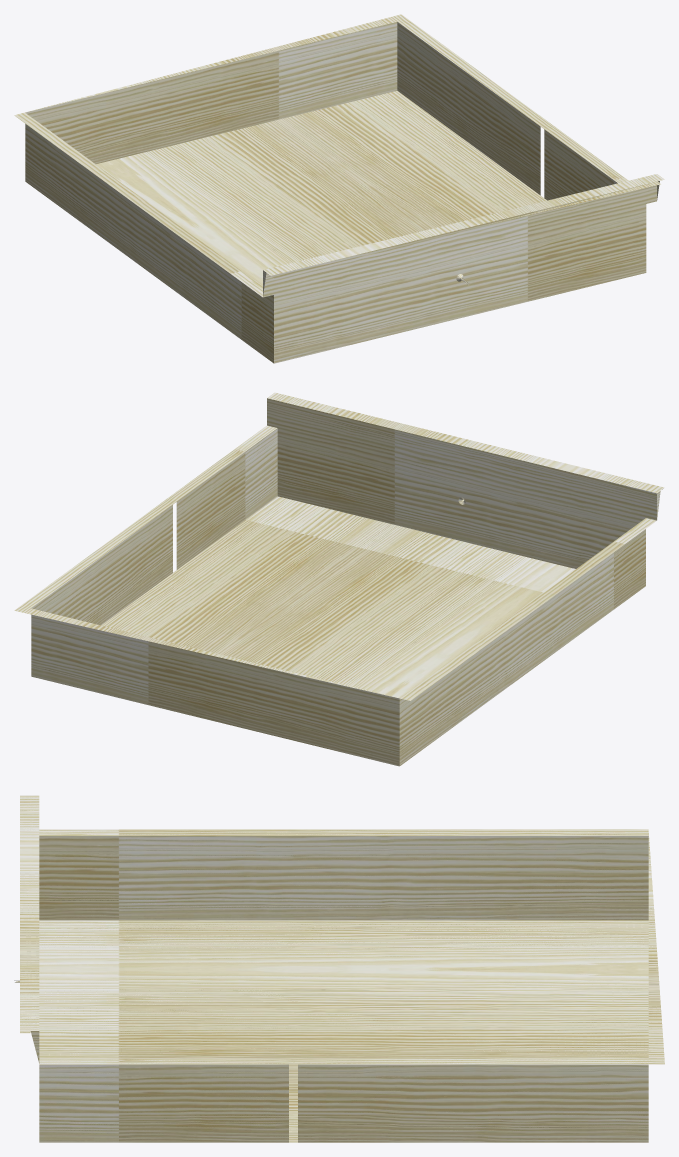
3 views of the same model, one above another, from view 1: azimuth 30°, elevation 25°; view 2: azimuth 150°, elevation 25°; view 3: azimuth 270°, elevation 25° (orthographic). The views are drawn at different scales.
Size of the model in its own units: 0.4117 by 0.0963 by 0.4812.
